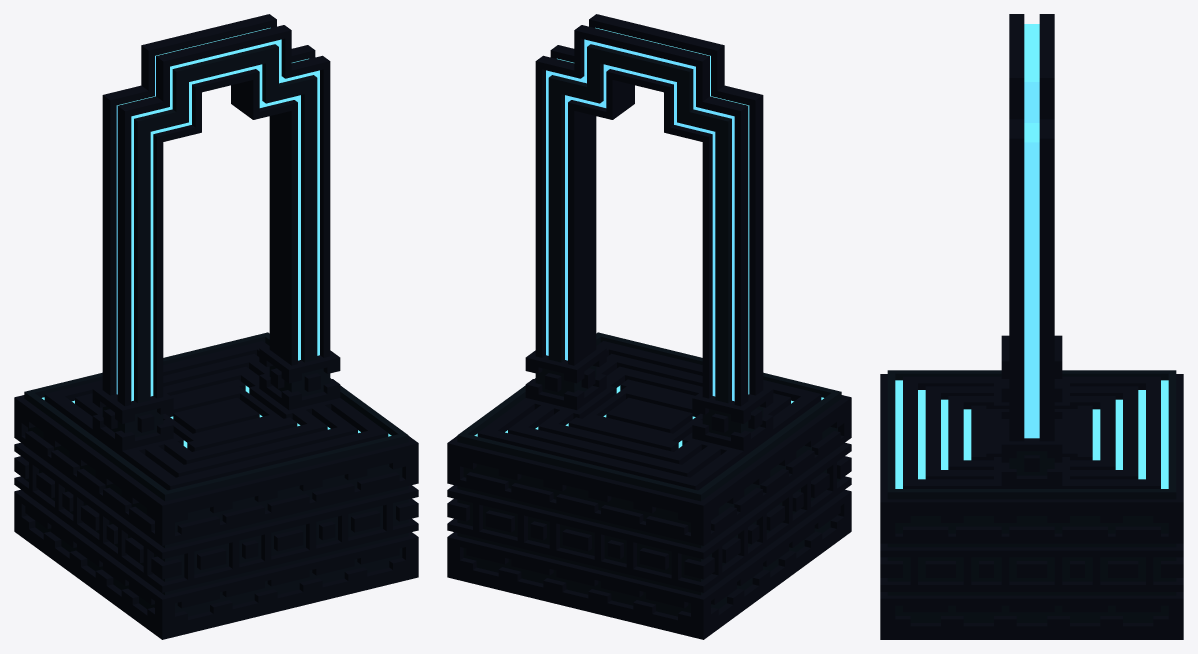
File: Block_Portal.glb
The picture shows the model from 3 angles, left to right: view 1: azimuth 30°, elevation 25°; view 2: azimuth 150°, elevation 25°; view 3: azimuth 270°, elevation 25°; orthographic projection. The views are drawn at different scales.
Visible parts, largest first — view 1: Block_Portal; view 2: Block_Portal; view 3: Block_Portal.
Part boxes in pixels (x1,y1,x2,y2): Block_Portal: [14, 14, 418, 639]; Block_Portal: [447, 14, 851, 639]; Block_Portal: [880, 14, 1183, 639].
Size of the model in its own units: 1 by 1.92 by 1.
